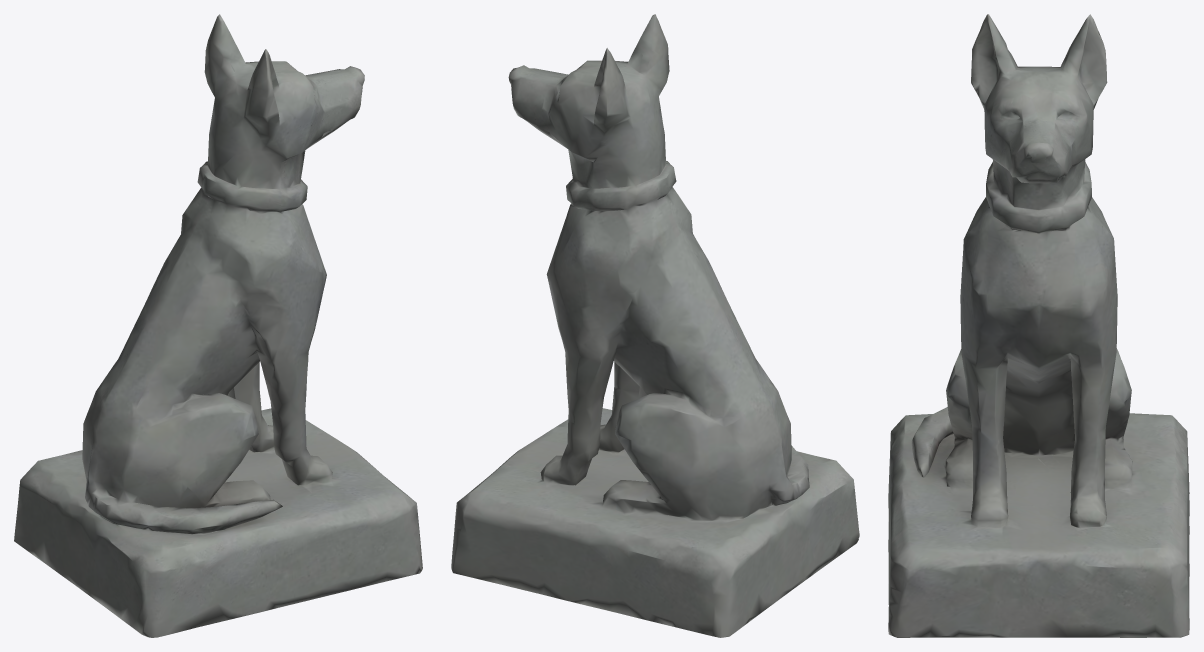
The model's file is hound.glb.
3 renders of one model, left to right at view 1: azimuth 30°, elevation 25°; view 2: azimuth 150°, elevation 25°; view 3: azimuth 270°, elevation 25°, orthographic. The views are drawn at different scales.
Parts seen in each view (by area): view 1: tripo_node_390dbd07-29e9-4958-af57-ab2091db8361; view 2: tripo_node_390dbd07-29e9-4958-af57-ab2091db8361; view 3: tripo_node_390dbd07-29e9-4958-af57-ab2091db8361.
Boxes of the visible parts, x1,y1,x2,y2 form: tripo_node_390dbd07-29e9-4958-af57-ab2091db8361: (14, 14, 422, 637); tripo_node_390dbd07-29e9-4958-af57-ab2091db8361: (451, 14, 859, 637); tripo_node_390dbd07-29e9-4958-af57-ab2091db8361: (888, 14, 1189, 637).
Bounding box in the file's own units: 0.5681 × 1 × 0.4846.
1 material, 1 textured.
